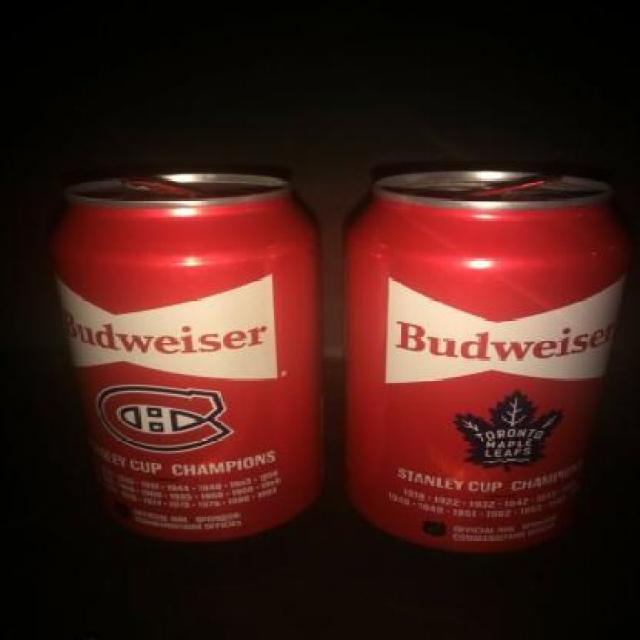non-organic waste: (338, 134, 633, 574), (42, 163, 349, 568)
